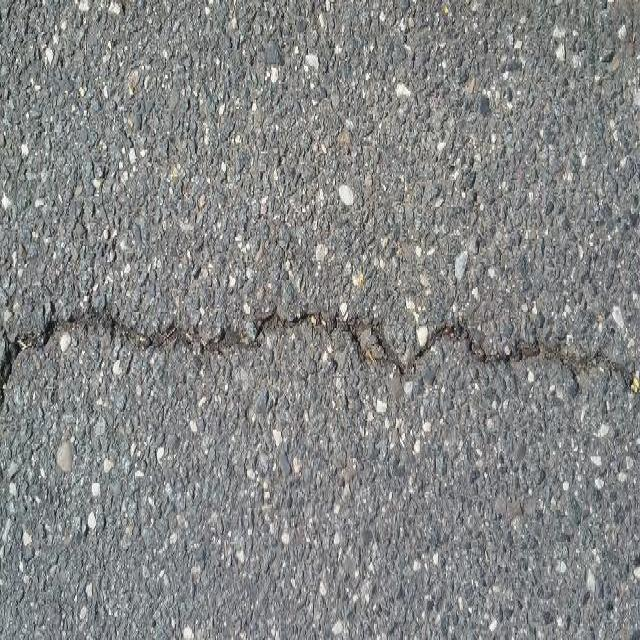GRIETA: (0, 311, 630, 408)
